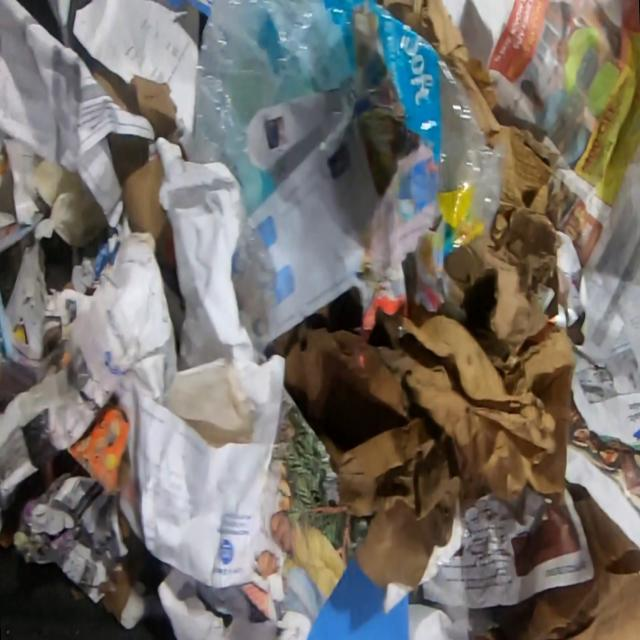cardboard: (268, 284, 575, 589), (377, 0, 564, 353), (468, 496, 640, 640), (88, 55, 178, 141), (120, 153, 166, 241)
soft_plastic: (186, 0, 507, 353)
